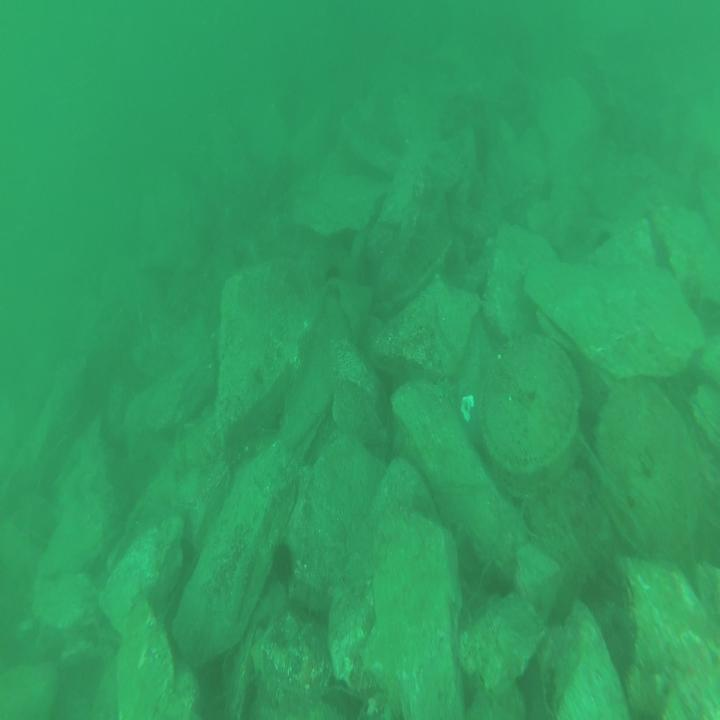echinus: (272, 539, 296, 587)
holothurian: (431, 373, 460, 409)
